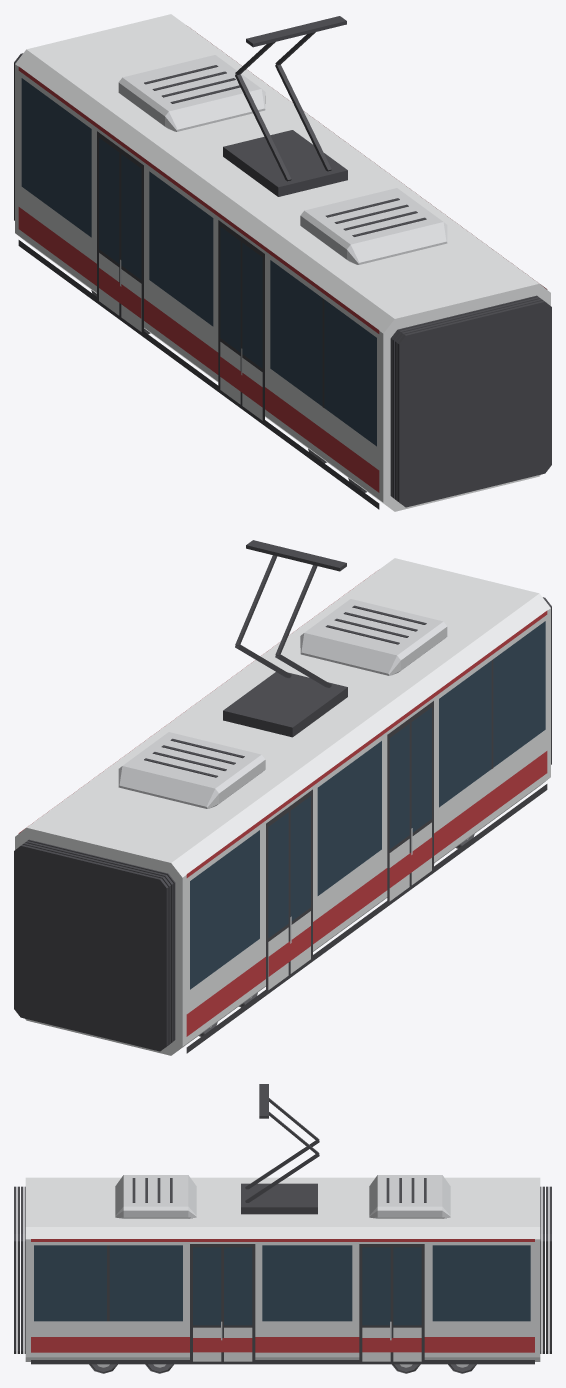
The model's file is middle.fbx.
3 renders of one model, top to bottom at view 1: azimuth 30°, elevation 25°; view 2: azimuth 150°, elevation 25°; view 3: azimuth 270°, elevation 25°, orthographic. The views are drawn at different scales.
Parts seen in each view (by area): view 1: 14_middle; view 2: 14_middle; view 3: 14_middle.
Part boxes in pixels (x1,y1,x2,y2): 14_middle: (14, 14, 551, 511); 14_middle: (14, 540, 551, 1055); 14_middle: (14, 1084, 551, 1373).
Size of the model in its own units: 2.54 by 5.21 by 9.95.
